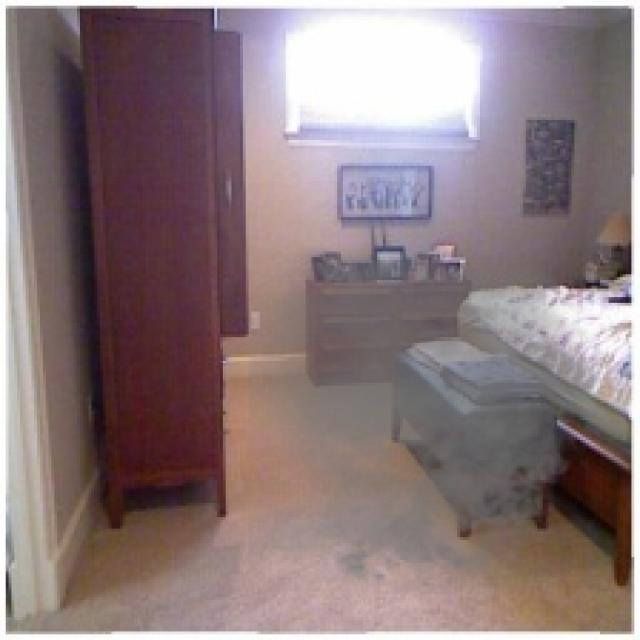Smoke: (248, 246, 614, 594)
